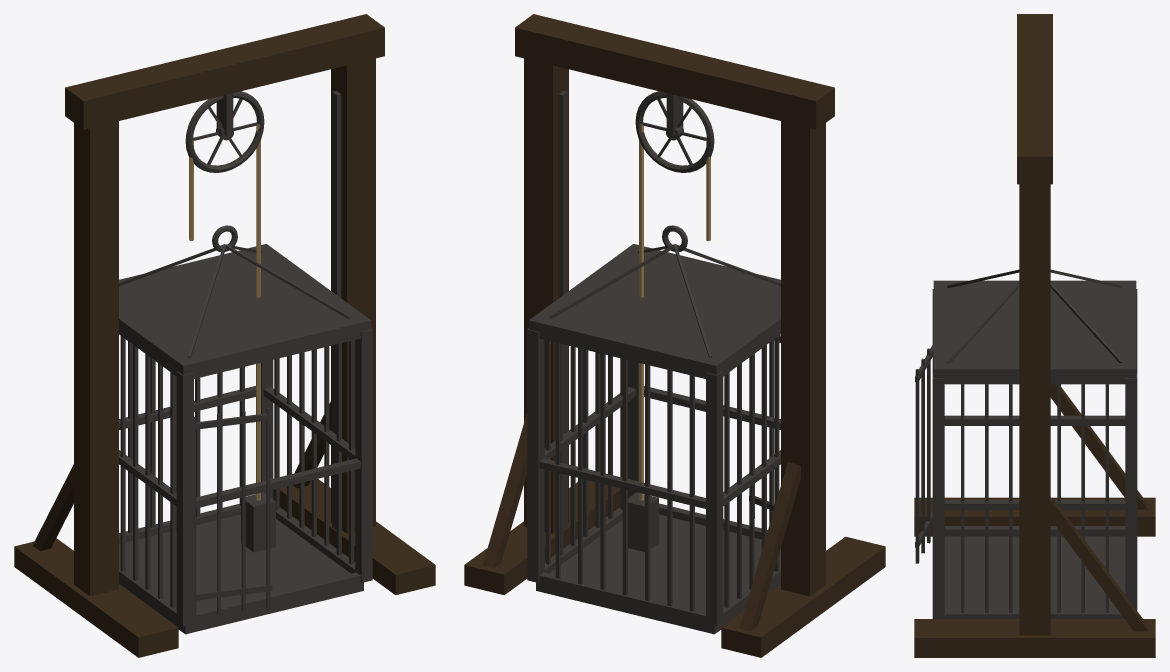
The model's file is lift-cage.glb.
The picture shows the model from 3 angles, left to right: view 1: azimuth 30°, elevation 25°; view 2: azimuth 150°, elevation 25°; view 3: azimuth 270°, elevation 25°; orthographic projection. The views are drawn at different scales.
Visible parts, largest first — view 1: Body_Iron, Body_WoodDark, Spin_Iron, Body_Rope; view 2: Body_Iron, Body_WoodDark, Spin_Iron, Body_Rope; view 3: Body_Iron, Body_WoodDark.
Boxes of the visible parts, left/top/right/bottom form: Body_Iron: left=119, top=90, right=372, bottom=634; Body_WoodDark: left=14, top=14, right=435, bottom=657; Spin_Iron: left=185, top=91, right=264, bottom=172; Body_Rope: left=189, top=124, right=260, bottom=500; Body_Iron: left=527, top=90, right=780, bottom=634; Body_WoodDark: left=464, top=14, right=885, bottom=657; Spin_Iron: left=635, top=91, right=714, bottom=172; Body_Rope: left=639, top=124, right=710, bottom=500; Body_Iron: left=915, top=269, right=1137, bottom=618; Body_WoodDark: left=914, top=14, right=1155, bottom=657.
Size of the model in its own units: 2.8 by 4.6 by 2.
